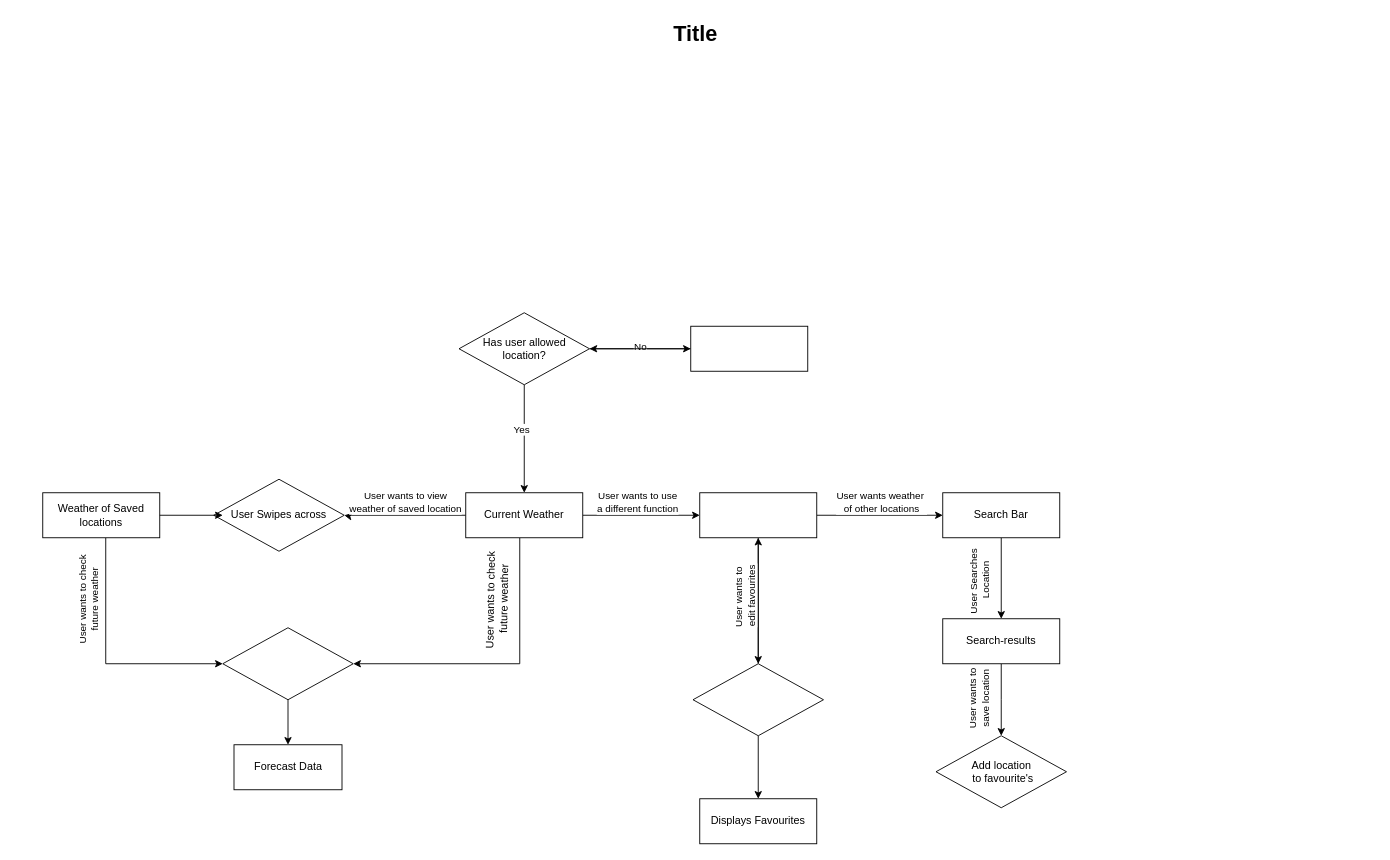
Image size: 1390x860. Some labels were removed from this diagram. The centre of each missing label's shape, as x and y in pixels:
"Click on favourite's tab" belongs at pixel 758 699.
"Menu" belongs at pixel 758 515.
"Request for location access" belongs at pixel 749 348.
"User Scrolls down" belongs at pixel 287 663.
